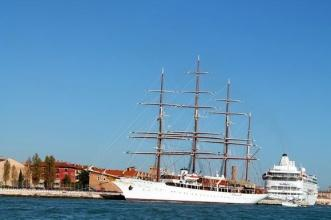fanchuan: (110, 53, 262, 204)
youlun: (263, 152, 319, 206)
